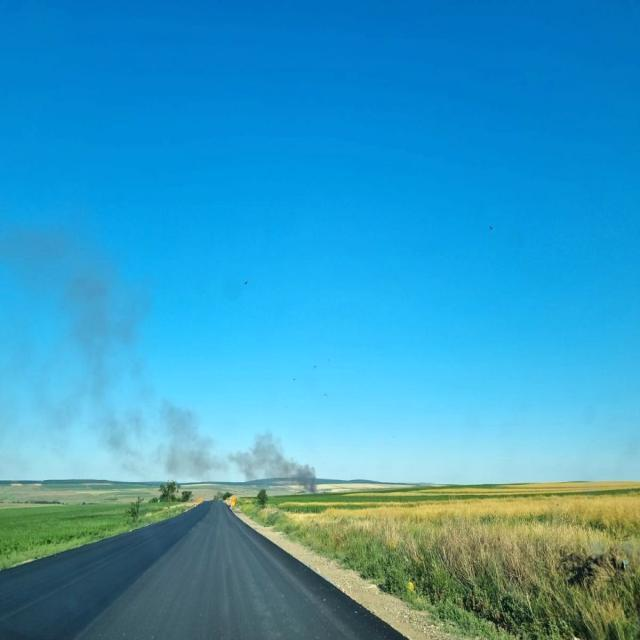Smoke: (108, 414, 310, 492)
